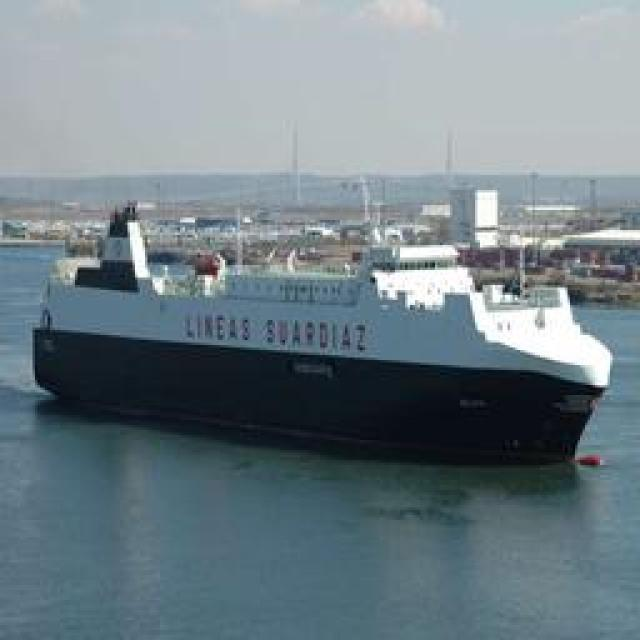ship2: (30, 176, 615, 470)
